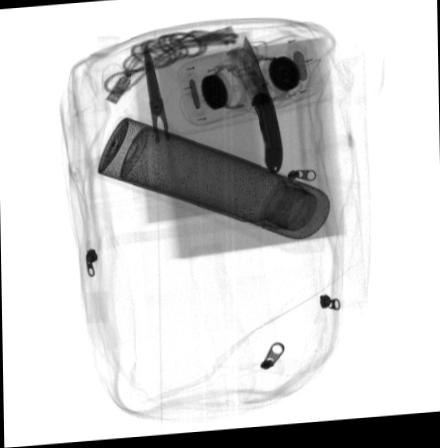Knife: (240, 36, 281, 175)
Scissors: (131, 44, 199, 195)
